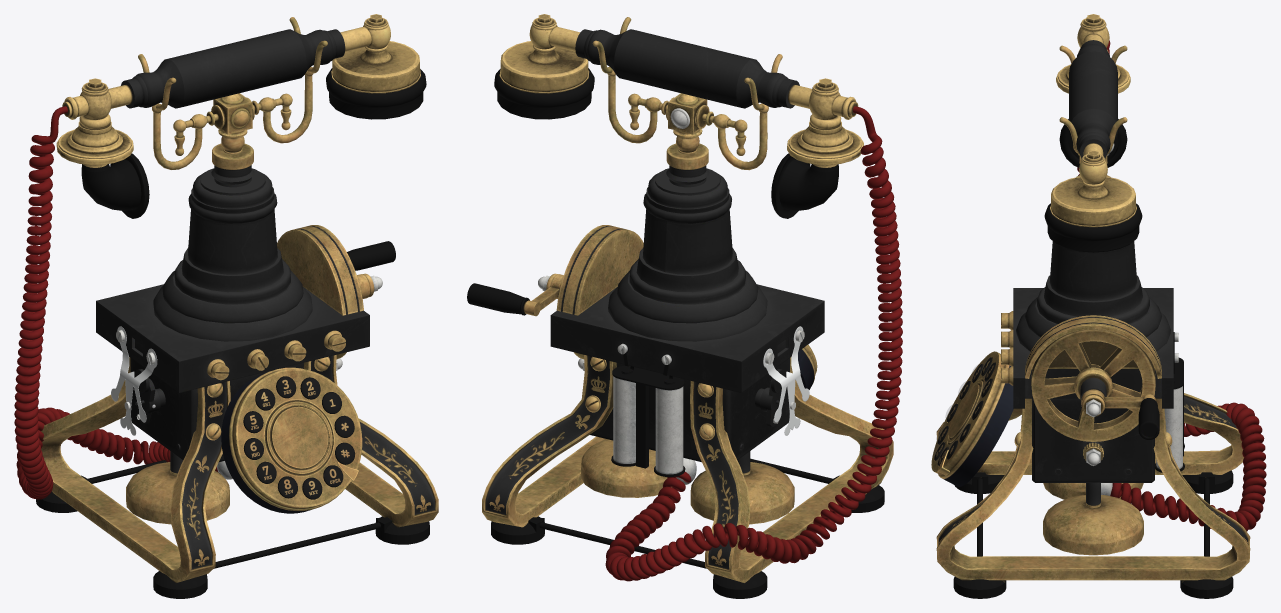
Rendered from obj_antique_phone_d783ca.glb.
3 renders of one model, left to right at view 1: azimuth 30°, elevation 25°; view 2: azimuth 150°, elevation 25°; view 3: azimuth 270°, elevation 25°, orthographic. The views are drawn at different scales.
Parts seen in each view (by area): view 1: obj_antique_phone_d783ca; view 2: obj_antique_phone_d783ca; view 3: obj_antique_phone_d783ca.
Boxes of the visible parts, box(x1,y1,x2,y2) form: obj_antique_phone_d783ca: box(14, 14, 438, 598); obj_antique_phone_d783ca: box(467, 14, 902, 598); obj_antique_phone_d783ca: box(931, 14, 1266, 598).
Size of the model in its own units: 0.1952 by 0.22 by 0.1463.
4 materials, 4 textured.
